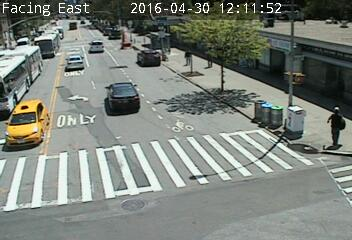neg: (282, 102, 309, 138), (213, 71, 233, 97), (250, 97, 269, 122), (257, 103, 274, 125), (155, 31, 172, 53), (117, 27, 133, 49), (268, 104, 284, 125), (66, 52, 80, 71), (7, 89, 21, 107), (289, 70, 301, 85), (327, 12, 338, 27)
pos: (320, 105, 351, 150), (181, 47, 195, 66), (203, 50, 216, 68)
